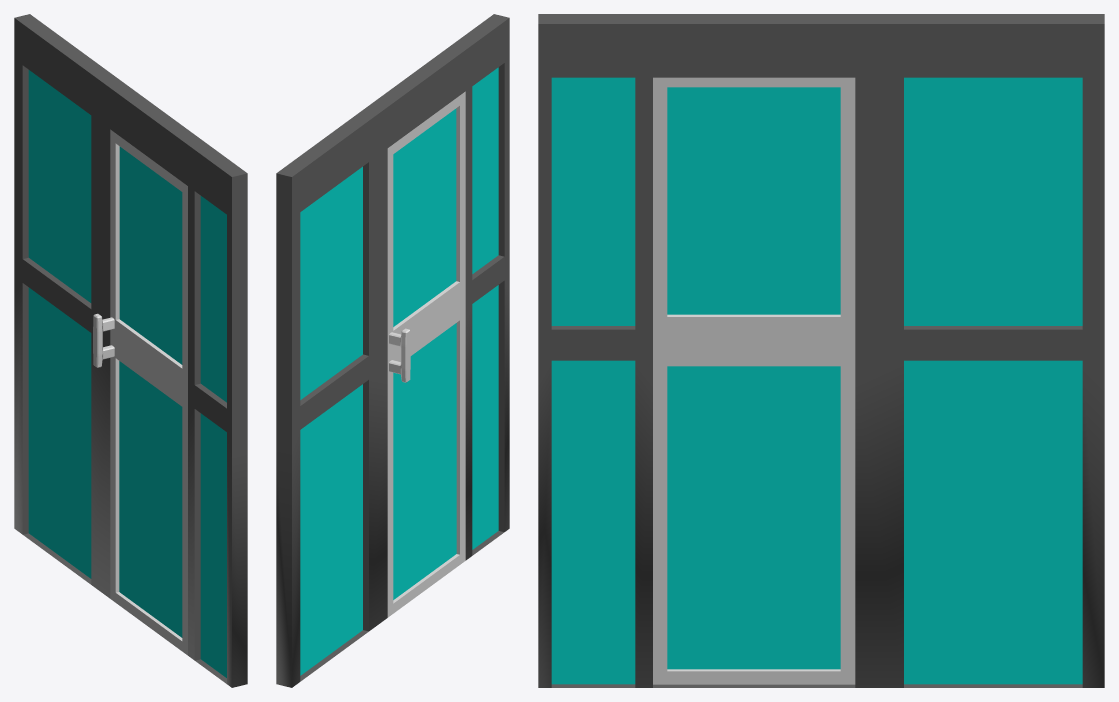
Rendered from glass entrance.fbx.
The picture shows the model from 3 angles, left to right: view 1: azimuth 30°, elevation 25°; view 2: azimuth 150°, elevation 25°; view 3: azimuth 270°, elevation 25°; orthographic projection. The views are drawn at different scales.
Visible parts, largest first — view 1: glass, glass wall, glass door; view 2: glass, glass wall, glass door; view 3: glass, glass wall, glass door.
Part boxes in pixels (left/top/right/bottom): glass: left=28, top=70, right=226, bottom=677; glass wall: left=14, top=14, right=247, bottom=687; glass door: left=93, top=129, right=187, bottom=655; glass: left=300, top=67, right=498, bottom=675; glass wall: left=276, top=14, right=509, bottom=687; glass door: left=387, top=91, right=465, bottom=617; glass: left=551, top=77, right=1082, bottom=684; glass wall: left=538, top=14, right=1104, bottom=687; glass door: left=653, top=77, right=855, bottom=684.
Bounding box in the file's own units: 14.99 × 218 × 168.
